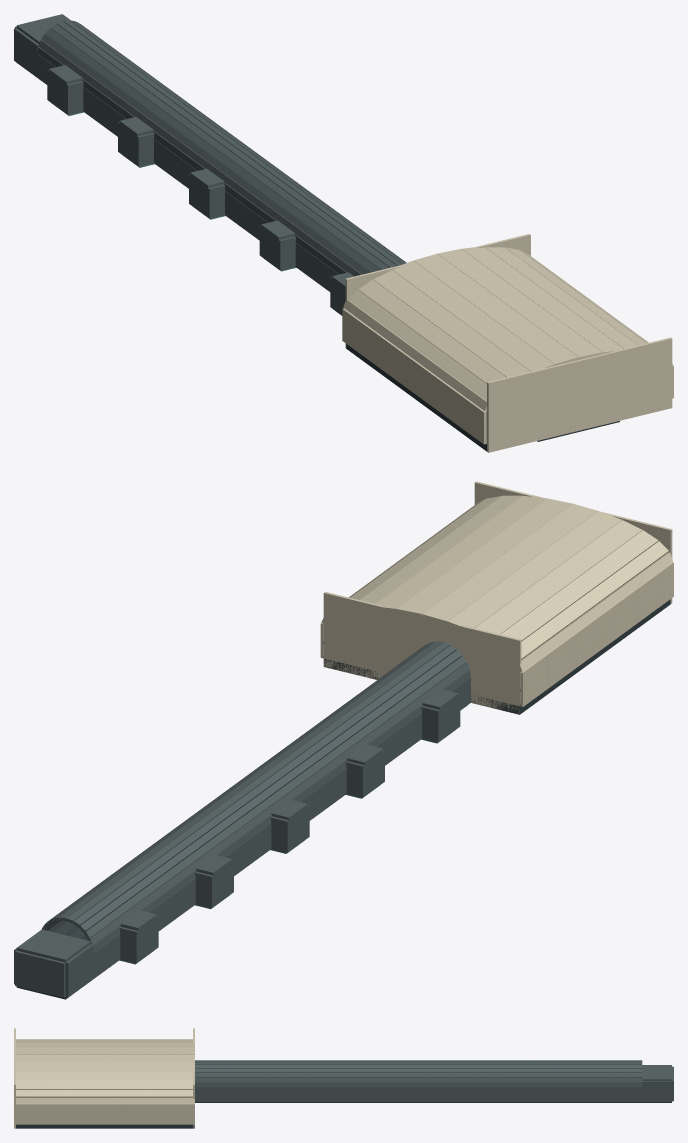
File: metro_pilote.glb
3 renders of one model, top to bottom at view 1: azimuth 30°, elevation 25°; view 2: azimuth 150°, elevation 25°; view 3: azimuth 270°, elevation 25°, orthographic. The views are drawn at different scales.
Visible parts, largest first — view 1: kit_pilote_fond_station_sud, kit_pilote_3_kit_mur_quai_4m_001, kit_pilote_24_kit_mur_quai_4m_001, kit_pilote_10_kit_mur_quai_4m_001, kit_pilote_local_mur_4.5, kit_pilote_17_kit_mur_quai_4m_001, kit_pilote_31_kit_mur_quai_4m_001, kit_pilote_37_kit_mur_quai_4m_001, kit_pilote_local_plafond; view 2: kit_pilote_fond_station_droit, kit_pilote_fond_station_gauche, kit_pilote_local_fond, kit_pilote_local_plafond, kit_pilote_fond_station_sud, kit_pilote_local_mur_4.5, kit_pilote_37_kit_mur_quai_4m_001, kit_pilote_10_kit_mur_quai_4m_001, kit_pilote_17_kit_mur_quai_4m_001, kit_pilote_24_kit_mur_quai_4m_001, kit_pilote_31_kit_mur_quai_4m_001, kit_pilote_3_kit_mur_quai_4m_001; view 3: kit_pilote_11_kit_mur_quai_4m_001, kit_pilote_25_kit_mur_quai_4m_001, kit_pilote_18_kit_mur_quai_4m_001, kit_pilote_4_kit_mur_quai_4m_001, kit_pilote_32_kit_mur_quai_4m_001, kit_pilote_38_kit_mur_quai_4m_001, kit_pilote_local_mur_9.25, kit_pilote_local_plafond, kit_pilote_fond_station_sud.
Boxes of the visible parts, box(x1,y1,x2,y2) form: kit_pilote_fond_station_sud: box(487, 337, 672, 452); kit_pilote_3_kit_mur_quai_4m_001: box(460, 395, 486, 444); kit_pilote_24_kit_mur_quai_4m_001: box(389, 343, 414, 392); kit_pilote_10_kit_mur_quai_4m_001: box(436, 377, 461, 426); kit_pilote_local_mur_4.5: box(14, 28, 38, 77); kit_pilote_17_kit_mur_quai_4m_001: box(413, 360, 438, 409); kit_pilote_31_kit_mur_quai_4m_001: box(366, 325, 390, 374); kit_pilote_37_kit_mur_quai_4m_001: box(342, 308, 367, 357); kit_pilote_local_plafond: box(16, 14, 70, 44); kit_pilote_fond_station_droit: box(323, 592, 418, 679); kit_pilote_fond_station_gauche: box(468, 627, 521, 713); kit_pilote_local_fond: box(15, 950, 65, 997); kit_pilote_local_plafond: box(16, 929, 90, 962); kit_pilote_fond_station_sud: box(474, 481, 672, 603); kit_pilote_local_mur_4.5: box(65, 944, 93, 997); kit_pilote_37_kit_mur_quai_4m_001: box(520, 654, 548, 706); kit_pilote_10_kit_mur_quai_4m_001: box(622, 580, 648, 632); kit_pilote_17_kit_mur_quai_4m_001: box(597, 599, 623, 651); kit_pilote_24_kit_mur_quai_4m_001: box(572, 617, 598, 669); kit_pilote_31_kit_mur_quai_4m_001: box(547, 635, 573, 688); kit_pilote_3_kit_mur_quai_4m_001: box(647, 562, 673, 614); kit_pilote_11_kit_mur_quai_4m_001: box(45, 1103, 75, 1124); kit_pilote_25_kit_mur_quai_4m_001: box(105, 1103, 135, 1124); kit_pilote_18_kit_mur_quai_4m_001: box(75, 1103, 105, 1124); kit_pilote_4_kit_mur_quai_4m_001: box(16, 1103, 45, 1124); kit_pilote_32_kit_mur_quai_4m_001: box(135, 1103, 164, 1124); kit_pilote_38_kit_mur_quai_4m_001: box(165, 1103, 194, 1124); kit_pilote_local_mur_9.25: box(642, 1081, 671, 1101); kit_pilote_local_plafond: box(642, 1065, 671, 1080); kit_pilote_fond_station_sud: box(14, 1028, 15, 1128).
Bounding box in the file's own units: 18.6 × 7 × 88.5.
Materials: 10 (4 with a texture image).
